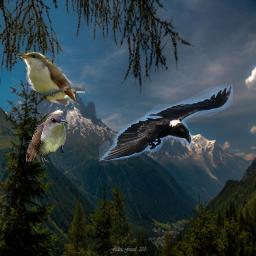Crow: (99, 84, 233, 161)
Cuckoo: (15, 47, 85, 105), (26, 114, 68, 162)
